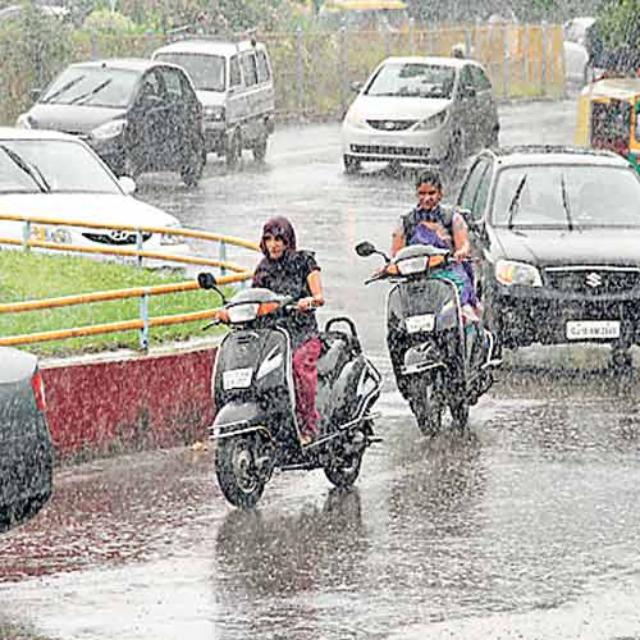licensePlate: (405, 310, 442, 335), (220, 369, 254, 388)
motorcycle: (203, 215, 384, 509), (394, 167, 504, 453)
withoutHelmet: (260, 219, 298, 261), (416, 169, 443, 208)
